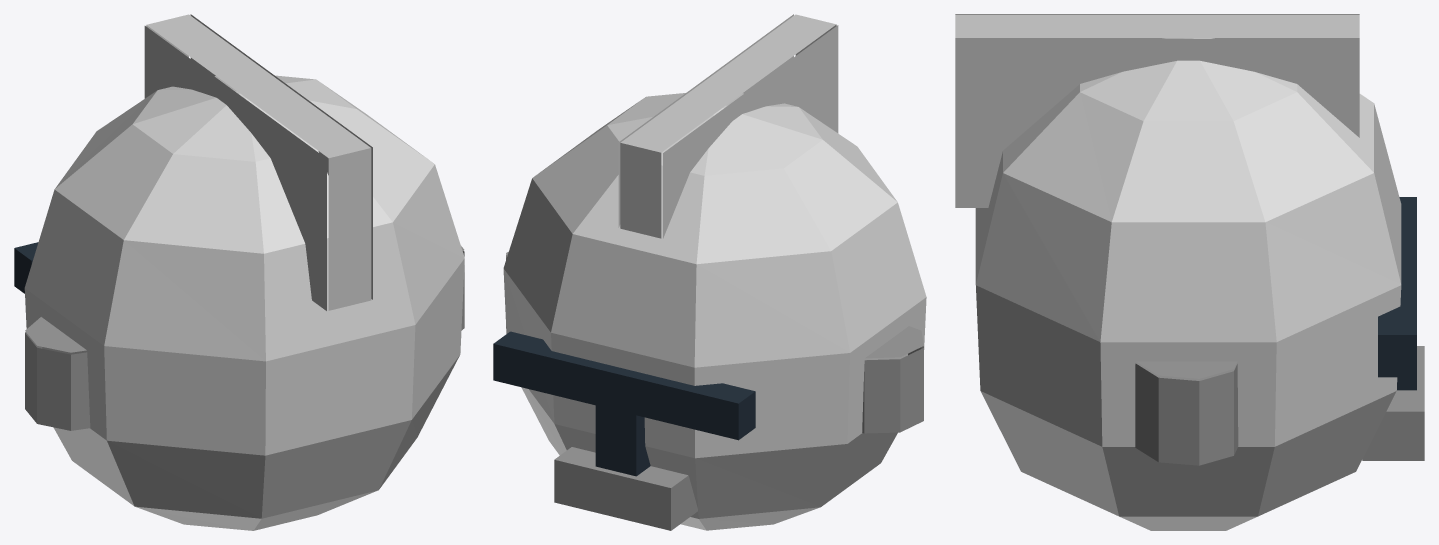
File: person_hat_cataphract_helm.obj
The picture shows the model from 3 angles, left to right: view 1: azimuth 30°, elevation 25°; view 2: azimuth 150°, elevation 25°; view 3: azimuth 270°, elevation 25°; orthographic projection. The views are drawn at different scales.
Parts seen in each view (by area): view 1: person_hat_cataphract_helm; view 2: person_hat_cataphract_helm; view 3: person_hat_cataphract_helm.
Part boxes in pixels (x1=…): person_hat_cataphract_helm: x1=14, y1=14, x2=464, y2=530; person_hat_cataphract_helm: x1=493, y1=14, x2=926, y2=530; person_hat_cataphract_helm: x1=955, y1=14, x2=1424, y2=530.
Bounding box in the file's own units: 0.6996 × 0.6561 × 0.6036.
